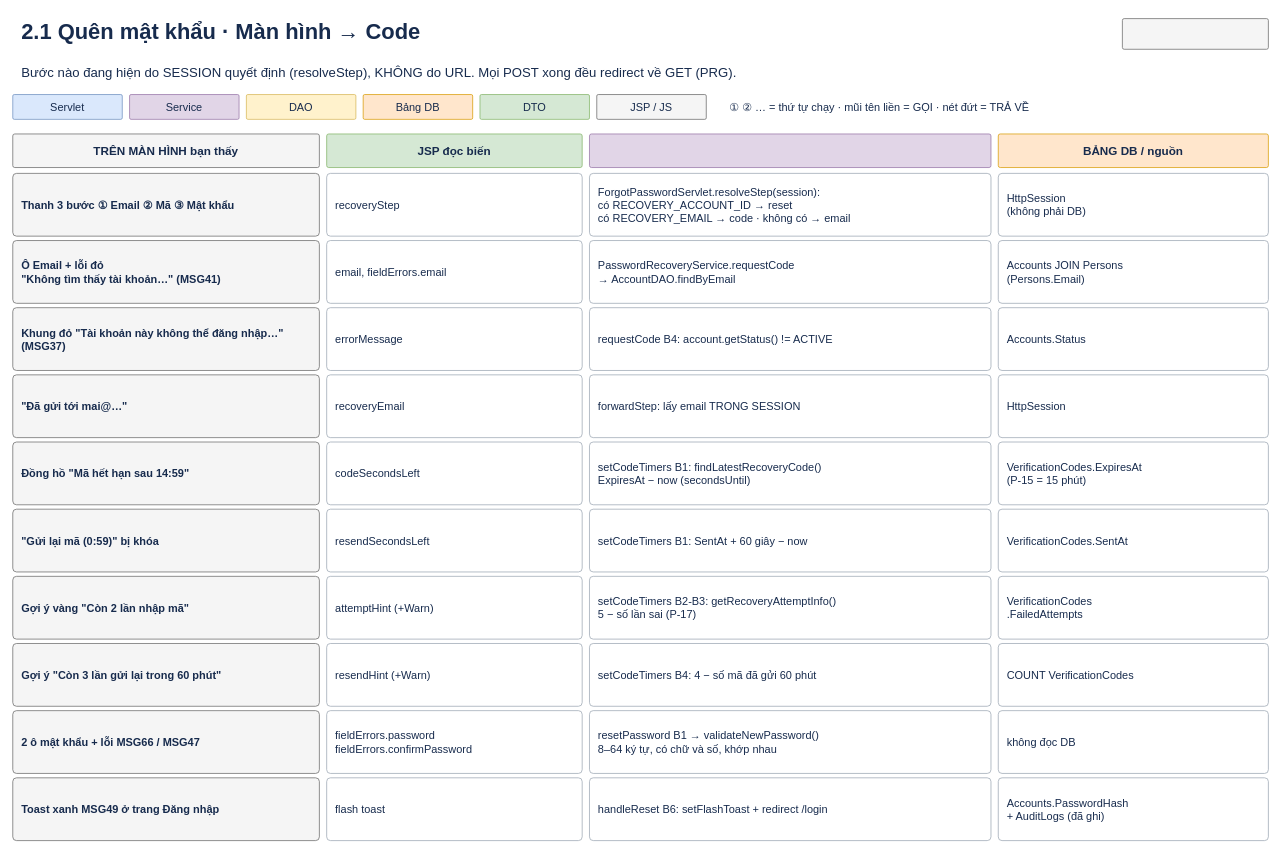
This 1288x853 diagram has some shape labels left out. Each missing label, with the centre of its shape:
AI TẠO (Service / DAO / hàm): the point at 790,150
◀ Về mục lục: the point at 1195,33
